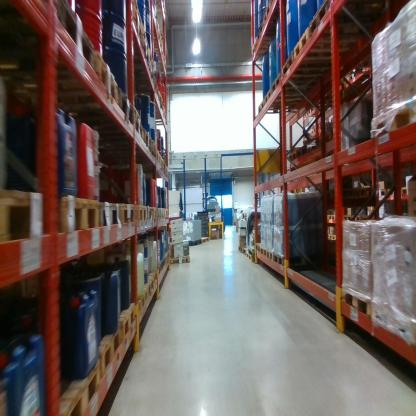pallet: (14, 46, 122, 109), (1, 1, 93, 69), (42, 88, 134, 140), (47, 356, 105, 414), (295, 28, 385, 65), (1, 187, 47, 254), (311, 2, 378, 42), (369, 97, 414, 151), (369, 297, 416, 346), (280, 50, 356, 80), (56, 199, 102, 241), (81, 333, 118, 385), (271, 70, 335, 100), (258, 101, 318, 124), (339, 285, 371, 324), (274, 251, 330, 273), (318, 183, 374, 204), (256, 22, 300, 48), (265, 89, 320, 109), (246, 36, 296, 56), (99, 198, 121, 237), (116, 308, 138, 347), (124, 63, 156, 87), (123, 11, 140, 51), (128, 37, 148, 69), (119, 199, 138, 230), (126, 2, 145, 31), (261, 1, 287, 21), (148, 49, 168, 73), (132, 108, 144, 146), (169, 252, 193, 269), (133, 202, 147, 230), (133, 285, 149, 309), (144, 81, 161, 100), (318, 131, 334, 149), (139, 29, 150, 53), (147, 46, 158, 69), (144, 269, 157, 287), (151, 96, 165, 112), (144, 128, 152, 154), (151, 143, 161, 163), (307, 137, 318, 155), (387, 186, 402, 199), (142, 278, 154, 294), (297, 141, 307, 160), (327, 213, 342, 225), (285, 148, 296, 164), (152, 260, 162, 277), (186, 239, 202, 249), (150, 137, 156, 162), (351, 215, 366, 224), (309, 125, 318, 140), (341, 213, 353, 224), (400, 183, 410, 196), (145, 205, 153, 221), (265, 249, 274, 263), (247, 249, 255, 264), (257, 243, 265, 258), (200, 233, 209, 246), (158, 255, 166, 269), (163, 162, 170, 178), (161, 250, 170, 262), (159, 154, 165, 169), (378, 188, 389, 196), (238, 243, 244, 254), (156, 208, 162, 219), (328, 233, 336, 241), (153, 208, 158, 219), (243, 247, 247, 260), (160, 206, 164, 217), (256, 243, 259, 253), (166, 206, 168, 215)
